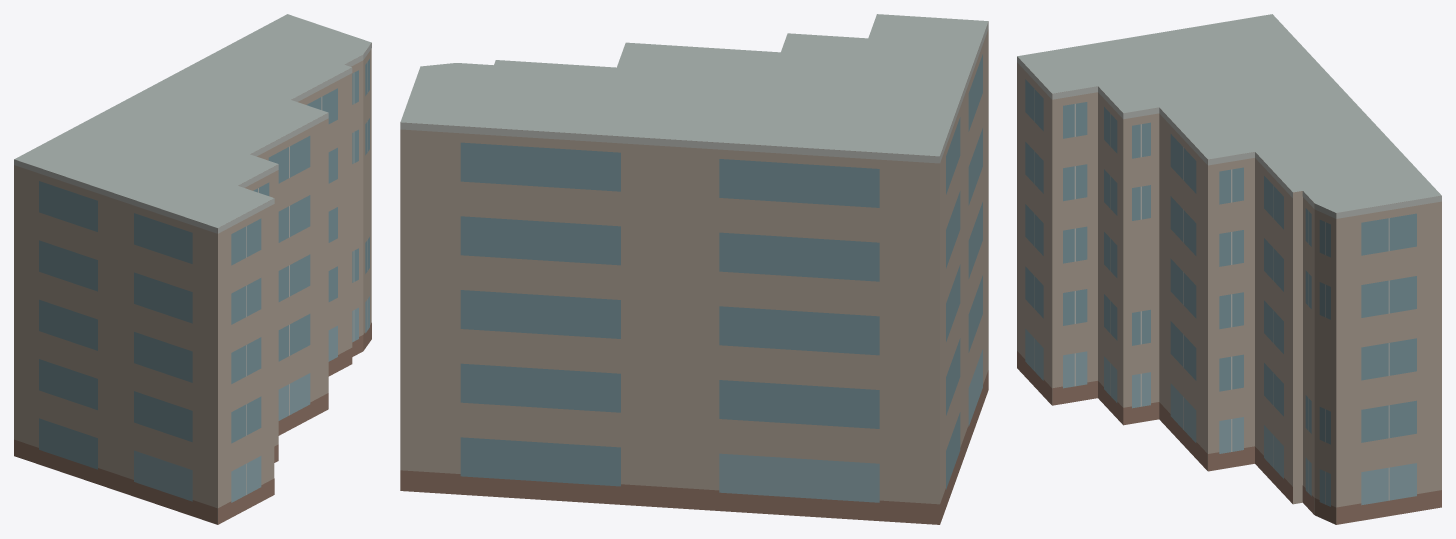
The model's file is survey-upis-32797514.glb.
3 views of the same model, side by side, from view 1: azimuth 30°, elevation 25°; view 2: azimuth 150°, elevation 25°; view 3: azimuth 270°, elevation 25° (orthographic). The views are drawn at different scales.
Visible parts, largest first — view 1: survey-upis-32797514.tmp; view 2: survey-upis-32797514.tmp; view 3: survey-upis-32797514.tmp.
Part boxes in pixels (x1,y1,x2,y2): survey-upis-32797514.tmp: (14, 14, 371, 524); survey-upis-32797514.tmp: (400, 14, 988, 524); survey-upis-32797514.tmp: (1017, 14, 1441, 524).
Bounding box in the file's own units: 17.39 × 12.7 × 15.68.
